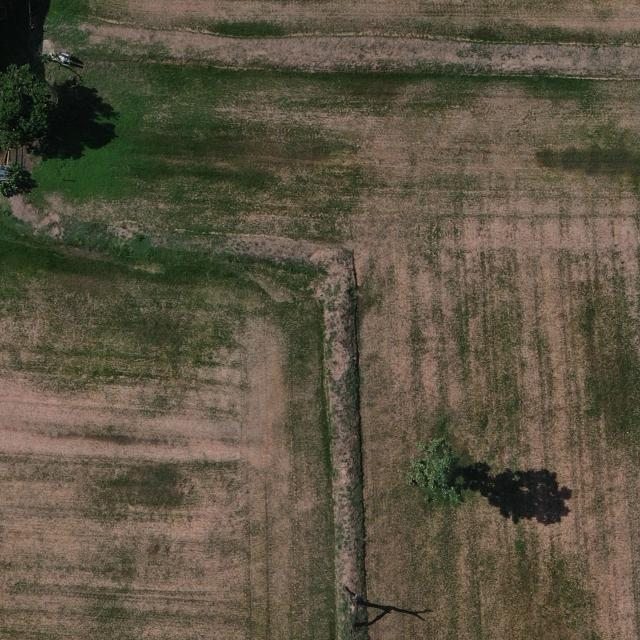Tree: (0, 61, 53, 153), (408, 434, 463, 507)
